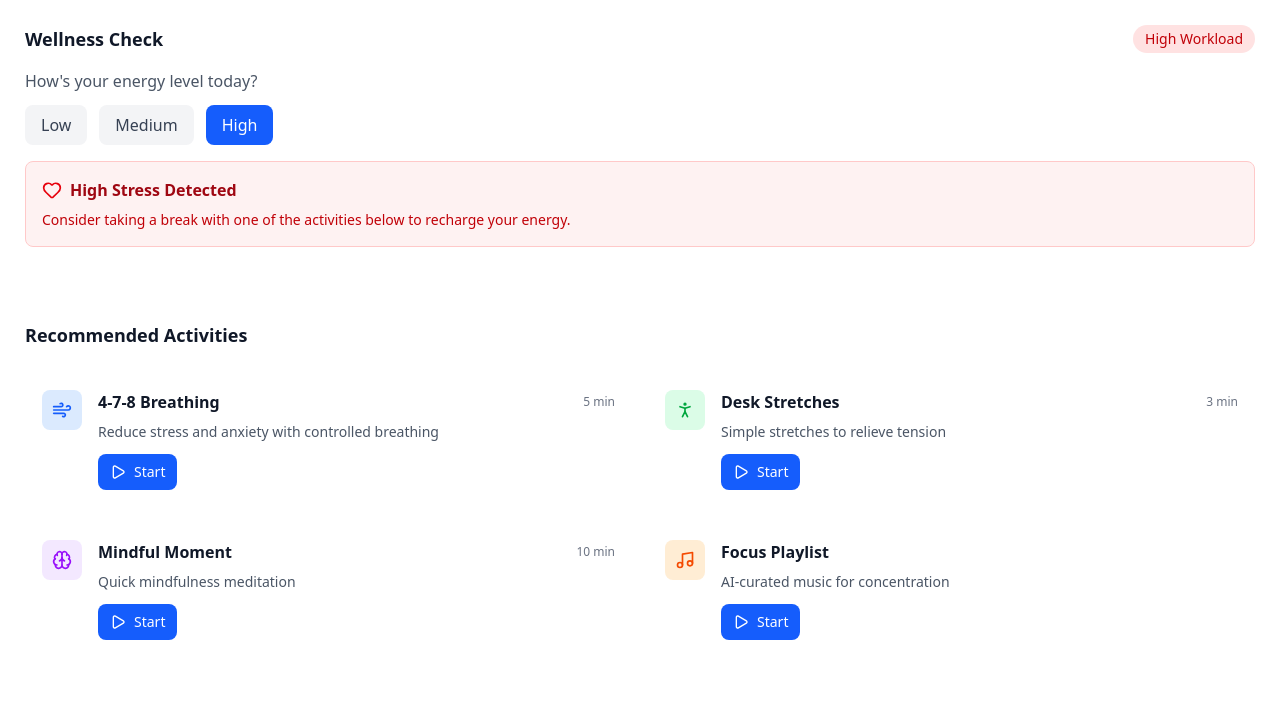
Test: WellnessCoach › changes workload level when a button is clicked
This screenshot has width=1280, height=705.
Expected: the text "High Workload" is shown, [1133,25,1255,53]
Expected: the heading "High Stress Detected" is shown, [70,178,237,202]
# Click 'Medium'
Click the button "Medium" at (146, 125), box [99,105,194,145]
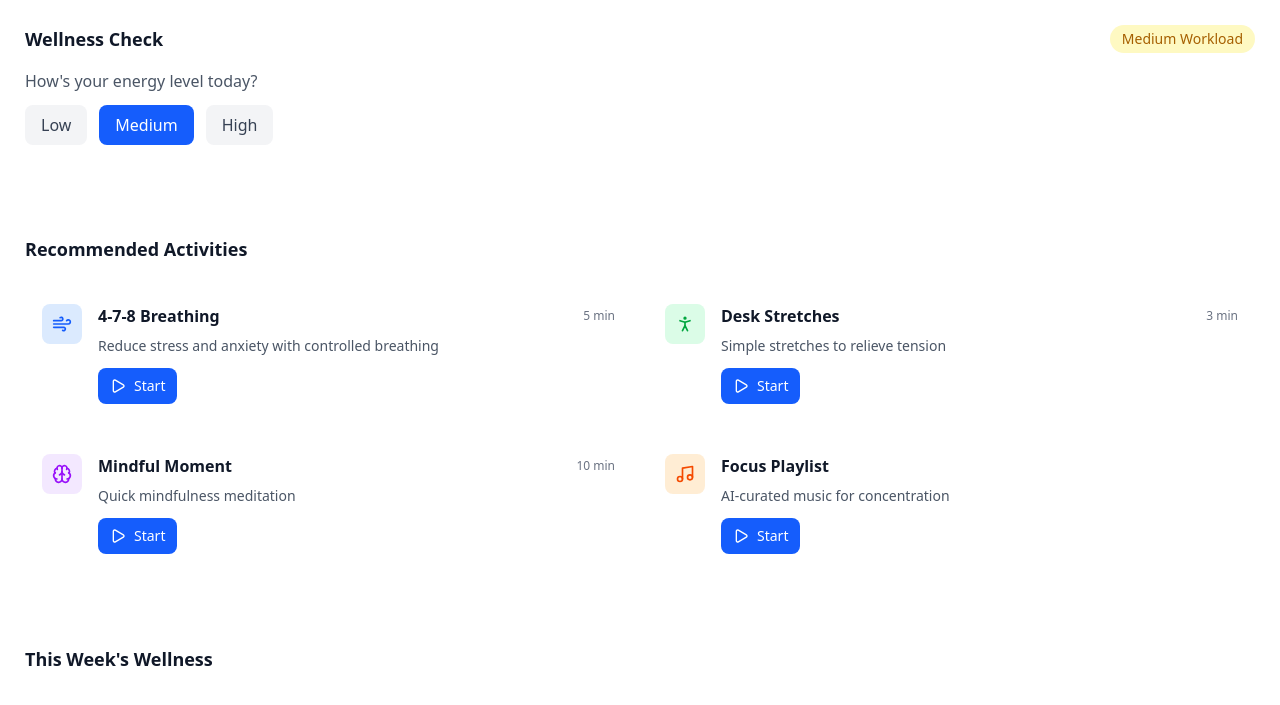
Result: the text "Medium Workload" is shown at [1110,25,1255,53]
Result: the heading "High Stress Detected" is gone
